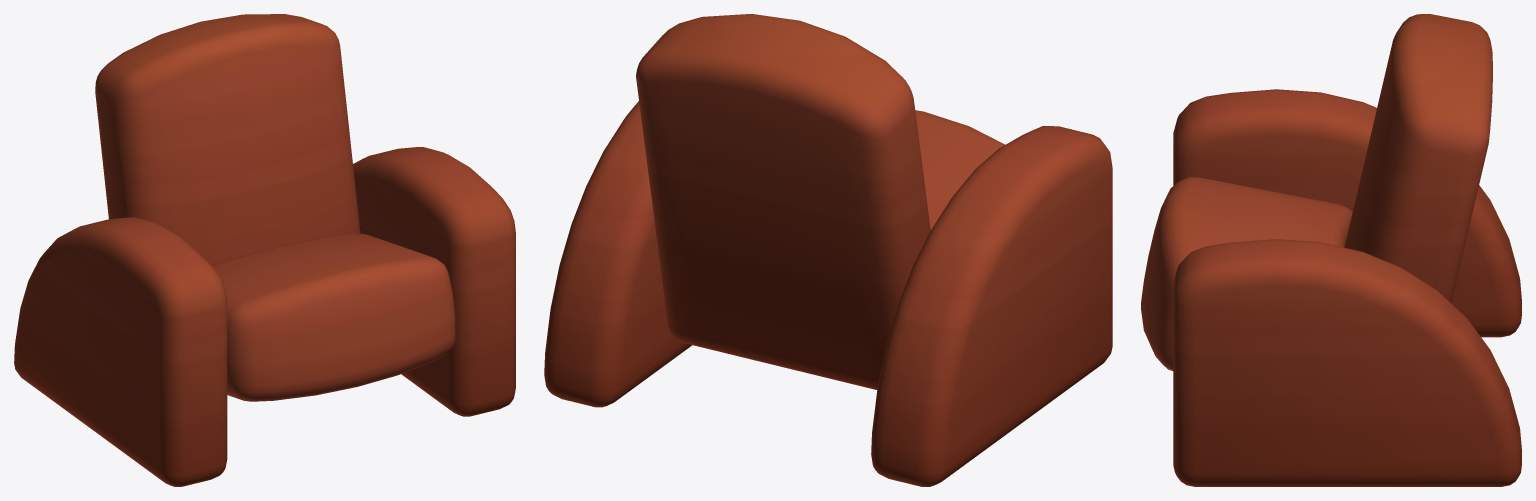
The model's file is Armchair_17.glb.
3 renders of one model, left to right at view 1: azimuth 30°, elevation 25°; view 2: azimuth 150°, elevation 25°; view 3: azimuth 270°, elevation 25°, orthographic. The views are drawn at different scales.
Parts seen in each view (by area): view 1: Armchair_17; view 2: Armchair_17; view 3: Armchair_17.
Part boxes in pixels (<box>): Armchair_17: <box>14,14,515,486</box>; Armchair_17: <box>544,14,1112,486</box>; Armchair_17: <box>1141,14,1521,486</box>.
Size of the model in its own units: 1.09 by 1 by 0.9566.
1 material, 1 textured.
